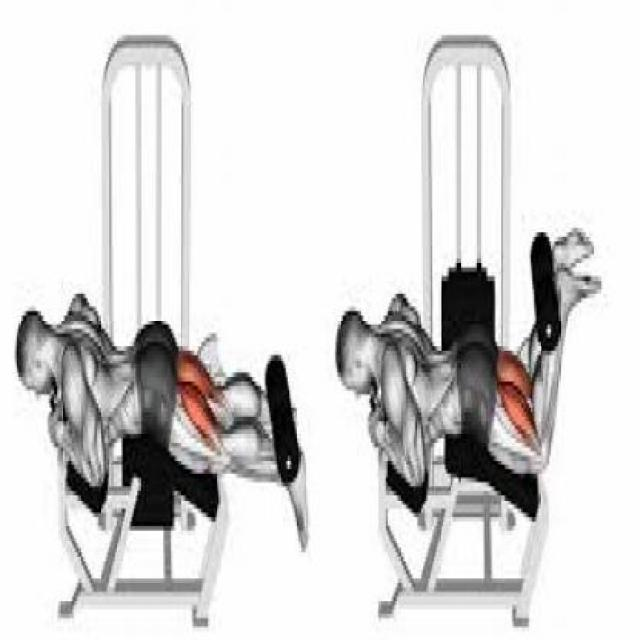reg curl machine: (9, 34, 317, 629), (333, 34, 604, 631)
